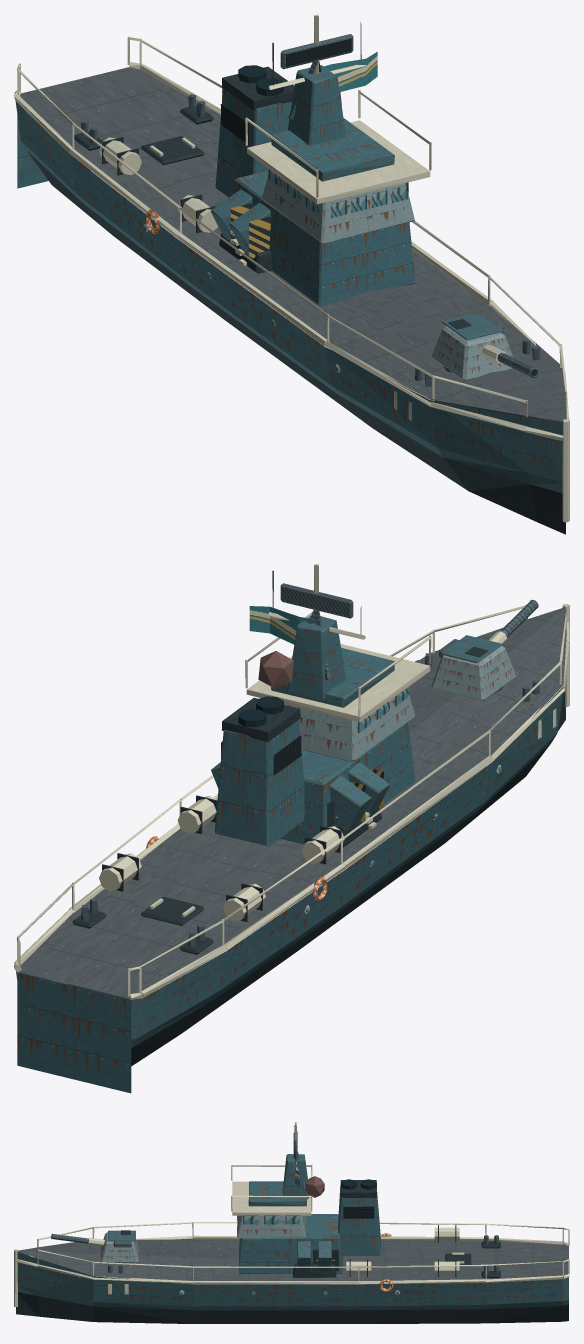
Rendered from corvette-lod1.glb.
3 views of the same model, one above another, from view 1: azimuth 30°, elevation 25°; view 2: azimuth 150°, elevation 25°; view 3: azimuth 270°, elevation 25° (orthographic). The views are drawn at different scales.
Visible parts, largest first — view 1: body; view 2: body; view 3: body.
Boxes of the visible parts, x1=… form: body: x1=14, y1=14, x2=569, y2=534; body: x1=14, y1=563, x2=569, y2=1093; body: x1=14, y1=1122, x2=569, y2=1323.
Bounding box in the file's own units: 6.45 × 12.1 × 32.19.
1 material, 1 textured.
